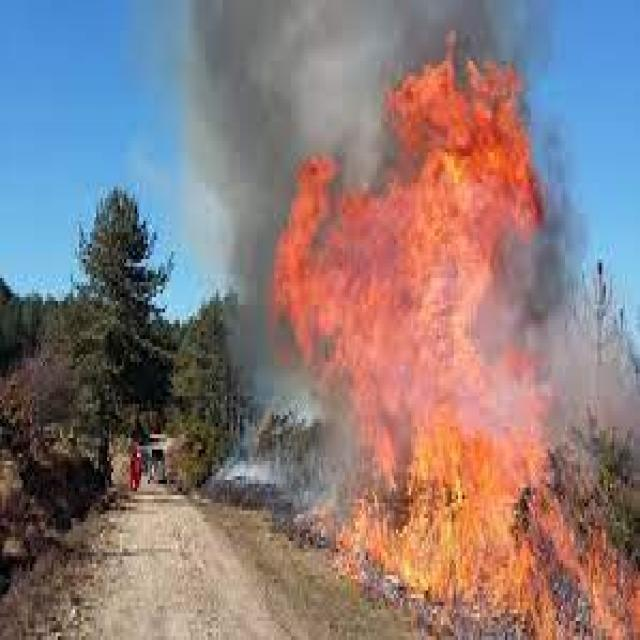Fire: (278, 49, 640, 640)
Smoke: (213, 2, 404, 188), (184, 0, 553, 82), (509, 129, 584, 448), (550, 333, 636, 436)
